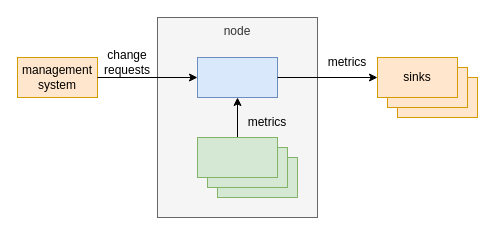
The diagram is 495 pixels wide and 235 high, and some of its shapes have lost their labels. The centre of each missing label's shape, as x and y in pixels:
hardware, file, process, ...: the point at 237,157
melegraf: the point at 237,77
